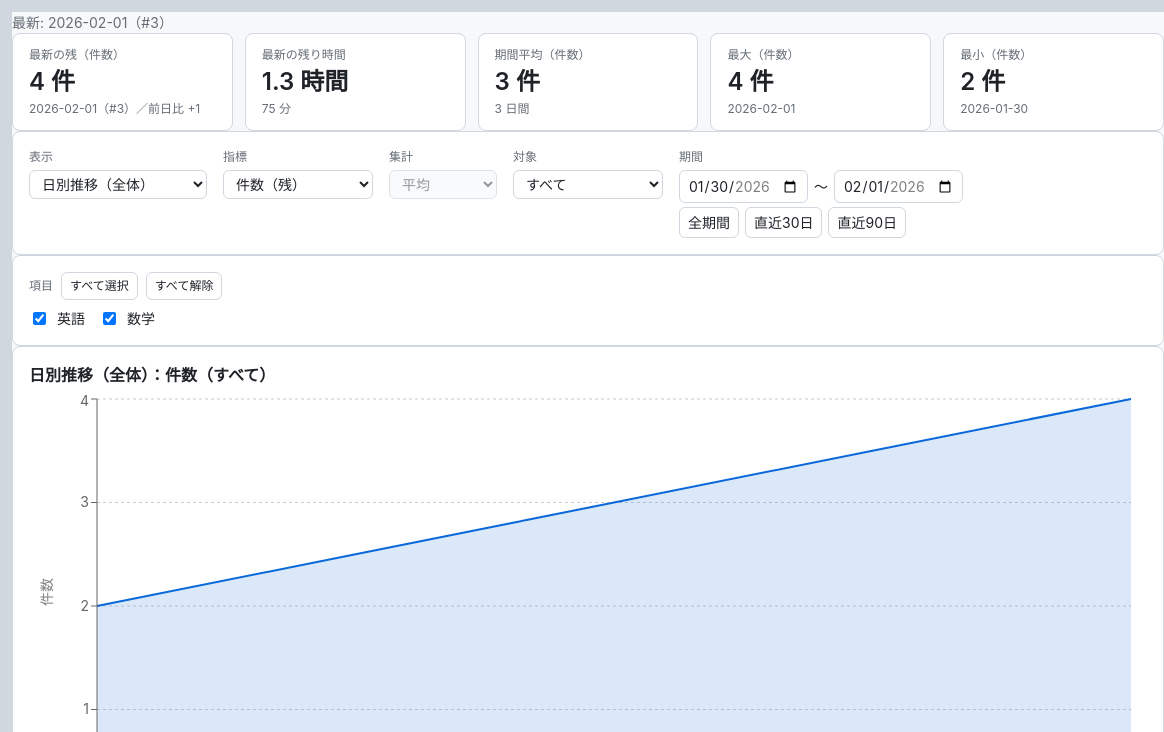
Scenario: DashboardView › 表示を変えるとグラフの見出しが変わる
Select "月ごと（全体）" in the dropdown labelled "表示". click: point(118, 184)
box: 29,170 -> 207,199
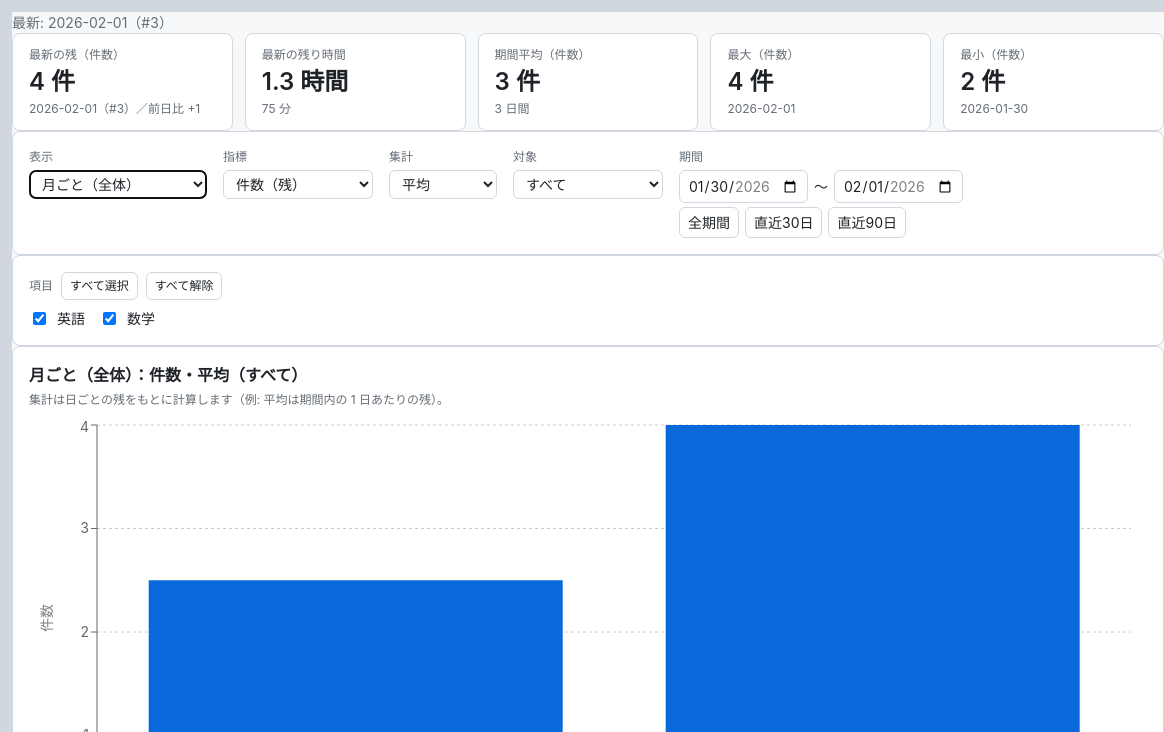
Result: the heading "月ごと（全体）：件数・平均（すべて）" is shown at 29,365 -> 307,385
